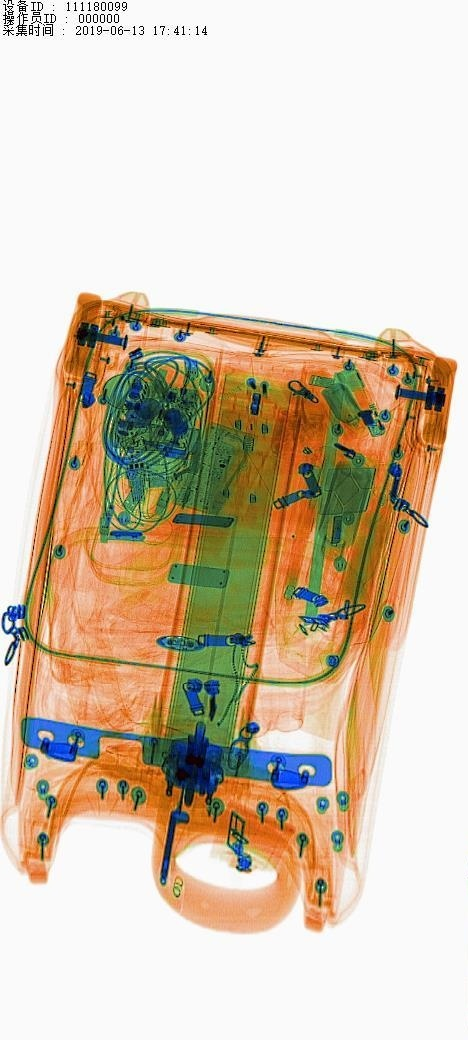NonmetallicFire: (334, 358, 403, 452)
